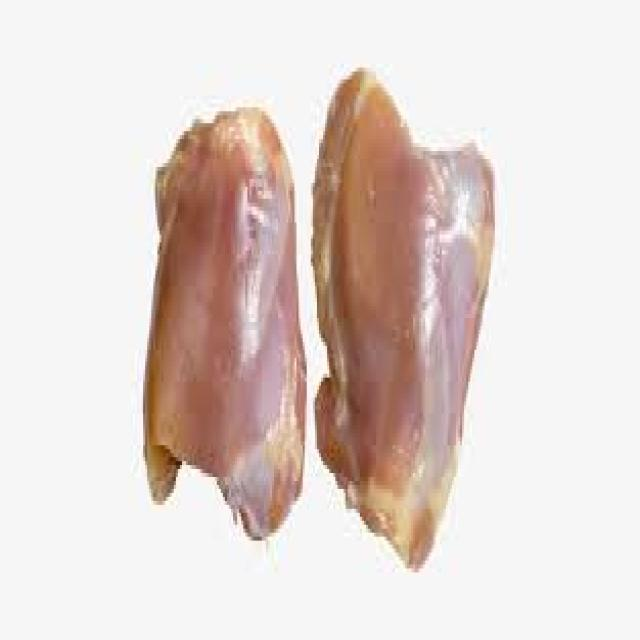thigh: (308, 45, 488, 596), (144, 56, 308, 569)
